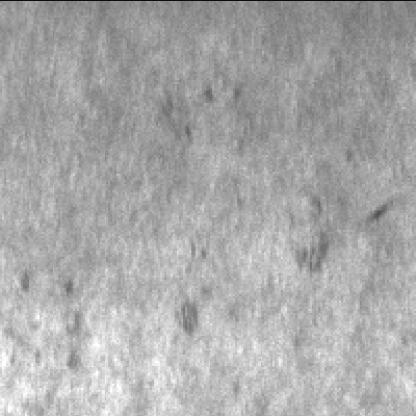rolled-in_scale: (2, 264, 75, 397), (152, 72, 254, 148), (277, 185, 337, 271)
